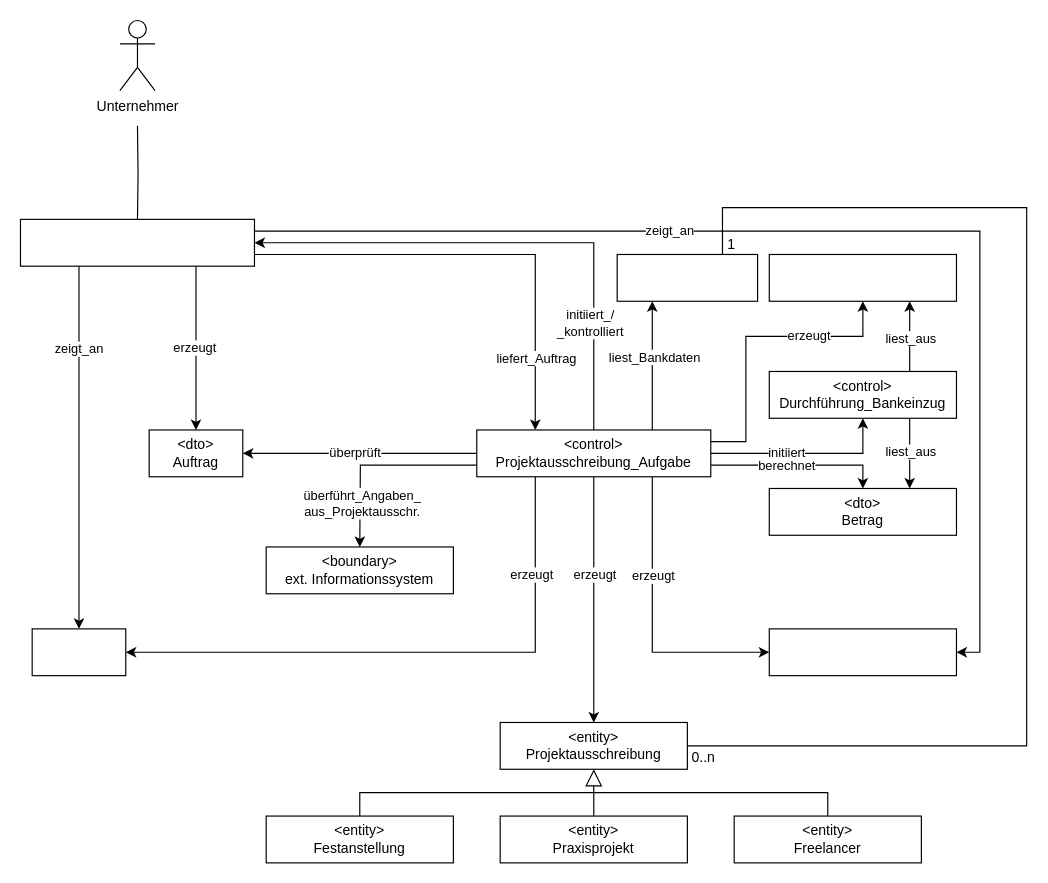
Some shapes in this 1048 by 883 pixel diagram are drawn without their labels. Each missing label, with the centre of its shape:
<boundary> Eingabeseite_Projektausschreibung: (136,242)
<dto> Bankverbindung: (862,277)
<dto> Bestätigung: (78,652)
<dto> Gesamtübersicht: (862,652)
<entity> Unternehmer: (687,277)
